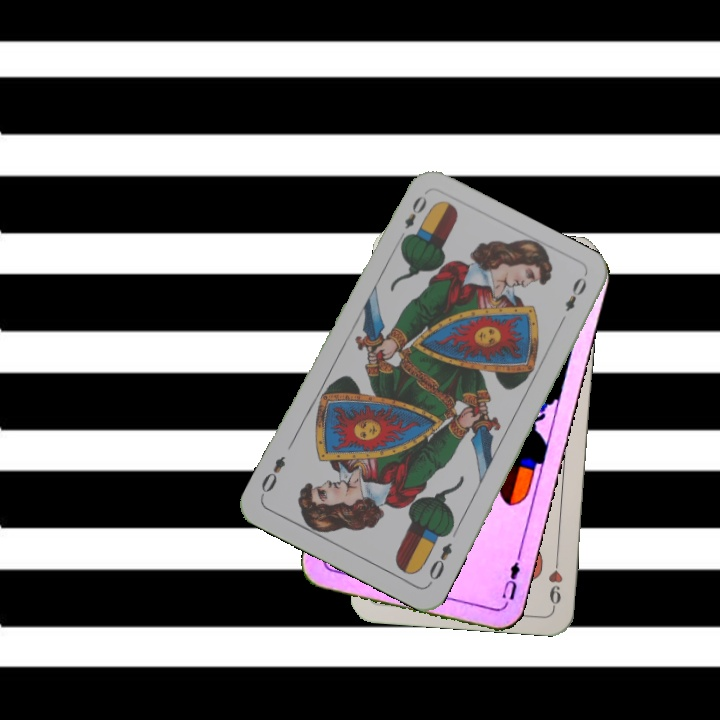EO: (395, 191, 430, 245), (425, 538, 455, 583)
EU: (498, 551, 524, 603)
H9: (545, 551, 565, 610)
